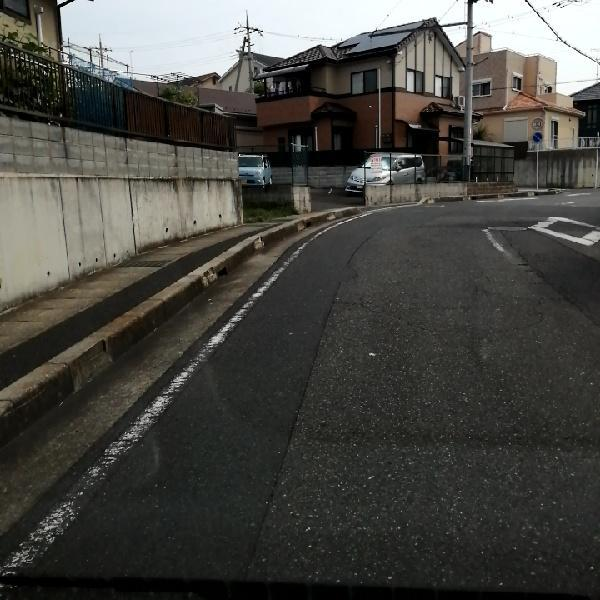D00: (342, 230, 374, 273)
D10: (331, 296, 386, 314)
D44: (10, 235, 300, 585)
